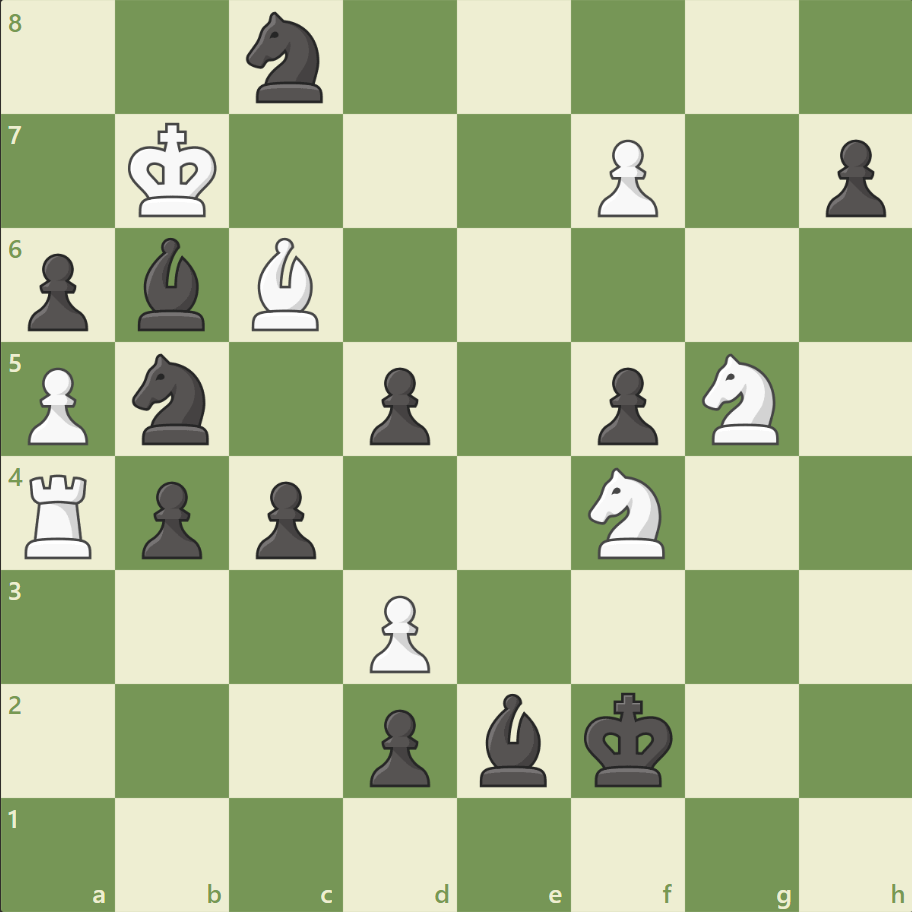B: (244, 233, 328, 336)
K: (124, 117, 224, 225)
N: (579, 461, 676, 564), (692, 348, 789, 450)
P: (20, 359, 95, 450), (588, 132, 662, 223), (361, 586, 435, 677)
R: (19, 466, 102, 563)
b: (131, 233, 215, 336), (471, 687, 555, 790)
k: (579, 685, 679, 793)
n: (124, 348, 222, 450), (238, 7, 335, 110)
p: (20, 246, 95, 337), (133, 473, 208, 564), (247, 473, 322, 564), (815, 132, 889, 223), (361, 359, 435, 450), (588, 359, 662, 450), (361, 700, 435, 791)
